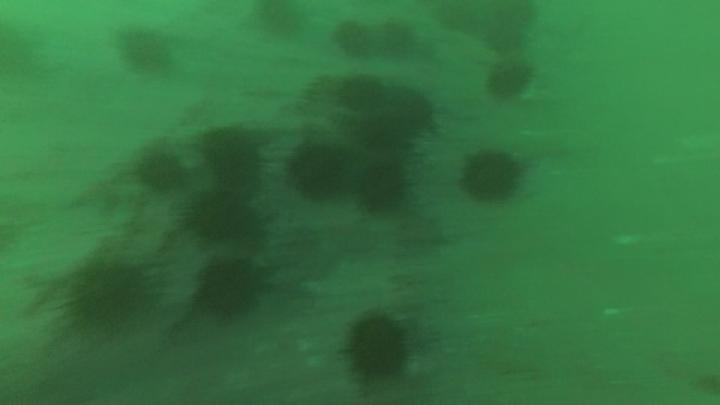echinus: (67, 271, 142, 335), (200, 132, 261, 193), (350, 318, 411, 374), (202, 264, 263, 316), (193, 194, 254, 243), (290, 144, 341, 199), (464, 151, 521, 200), (348, 110, 414, 152), (360, 164, 402, 217), (125, 34, 172, 72), (139, 156, 185, 193), (377, 20, 415, 60), (258, 2, 305, 33), (334, 20, 373, 57), (490, 63, 530, 99), (398, 88, 433, 129), (481, 23, 523, 53), (343, 78, 379, 108)
starfish: (397, 215, 447, 249)
